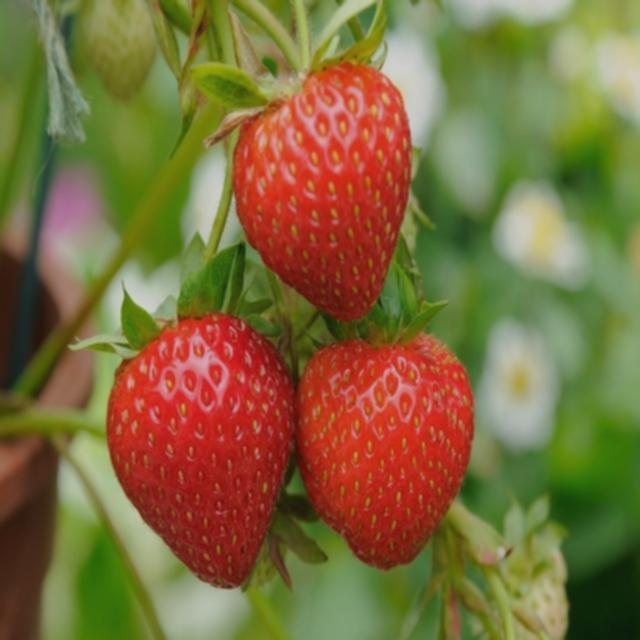strawberry: (106, 312, 295, 588), (232, 62, 411, 321), (296, 334, 474, 569)
